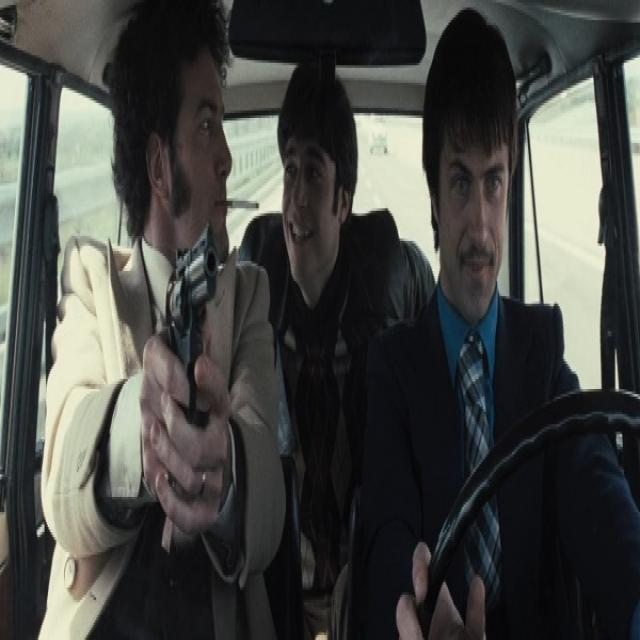rifle: (166, 219, 226, 380)
